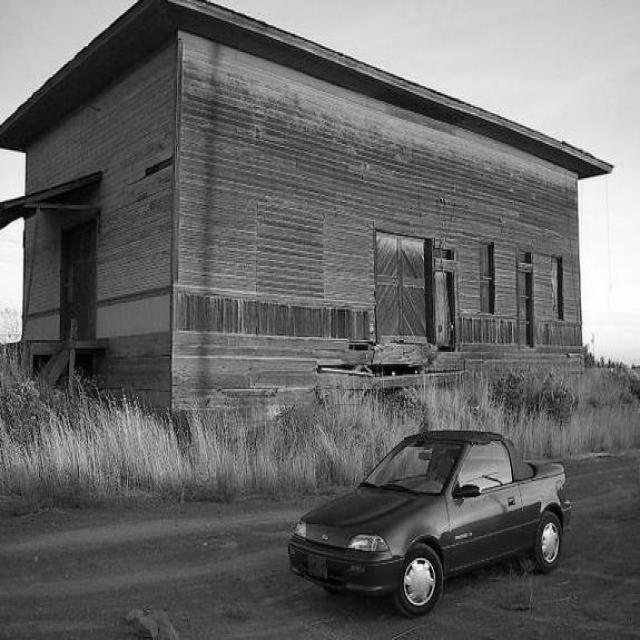car: (286, 428, 572, 618)
